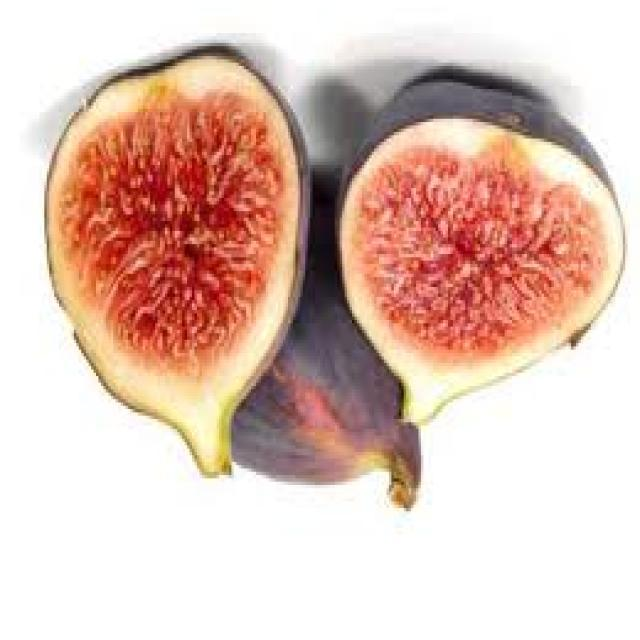Fig: (40, 20, 328, 488), (338, 53, 638, 465)
